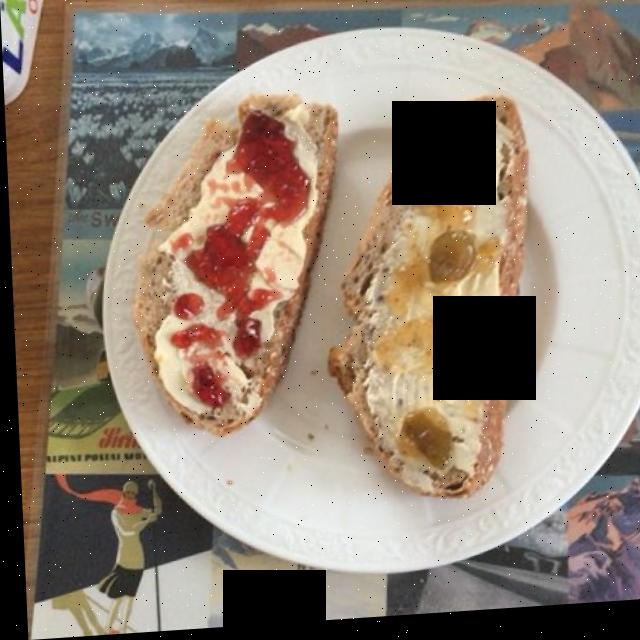bread-wholemeal: (152, 89, 527, 501)
butter: (157, 109, 513, 483)
jam: (186, 117, 497, 484)
